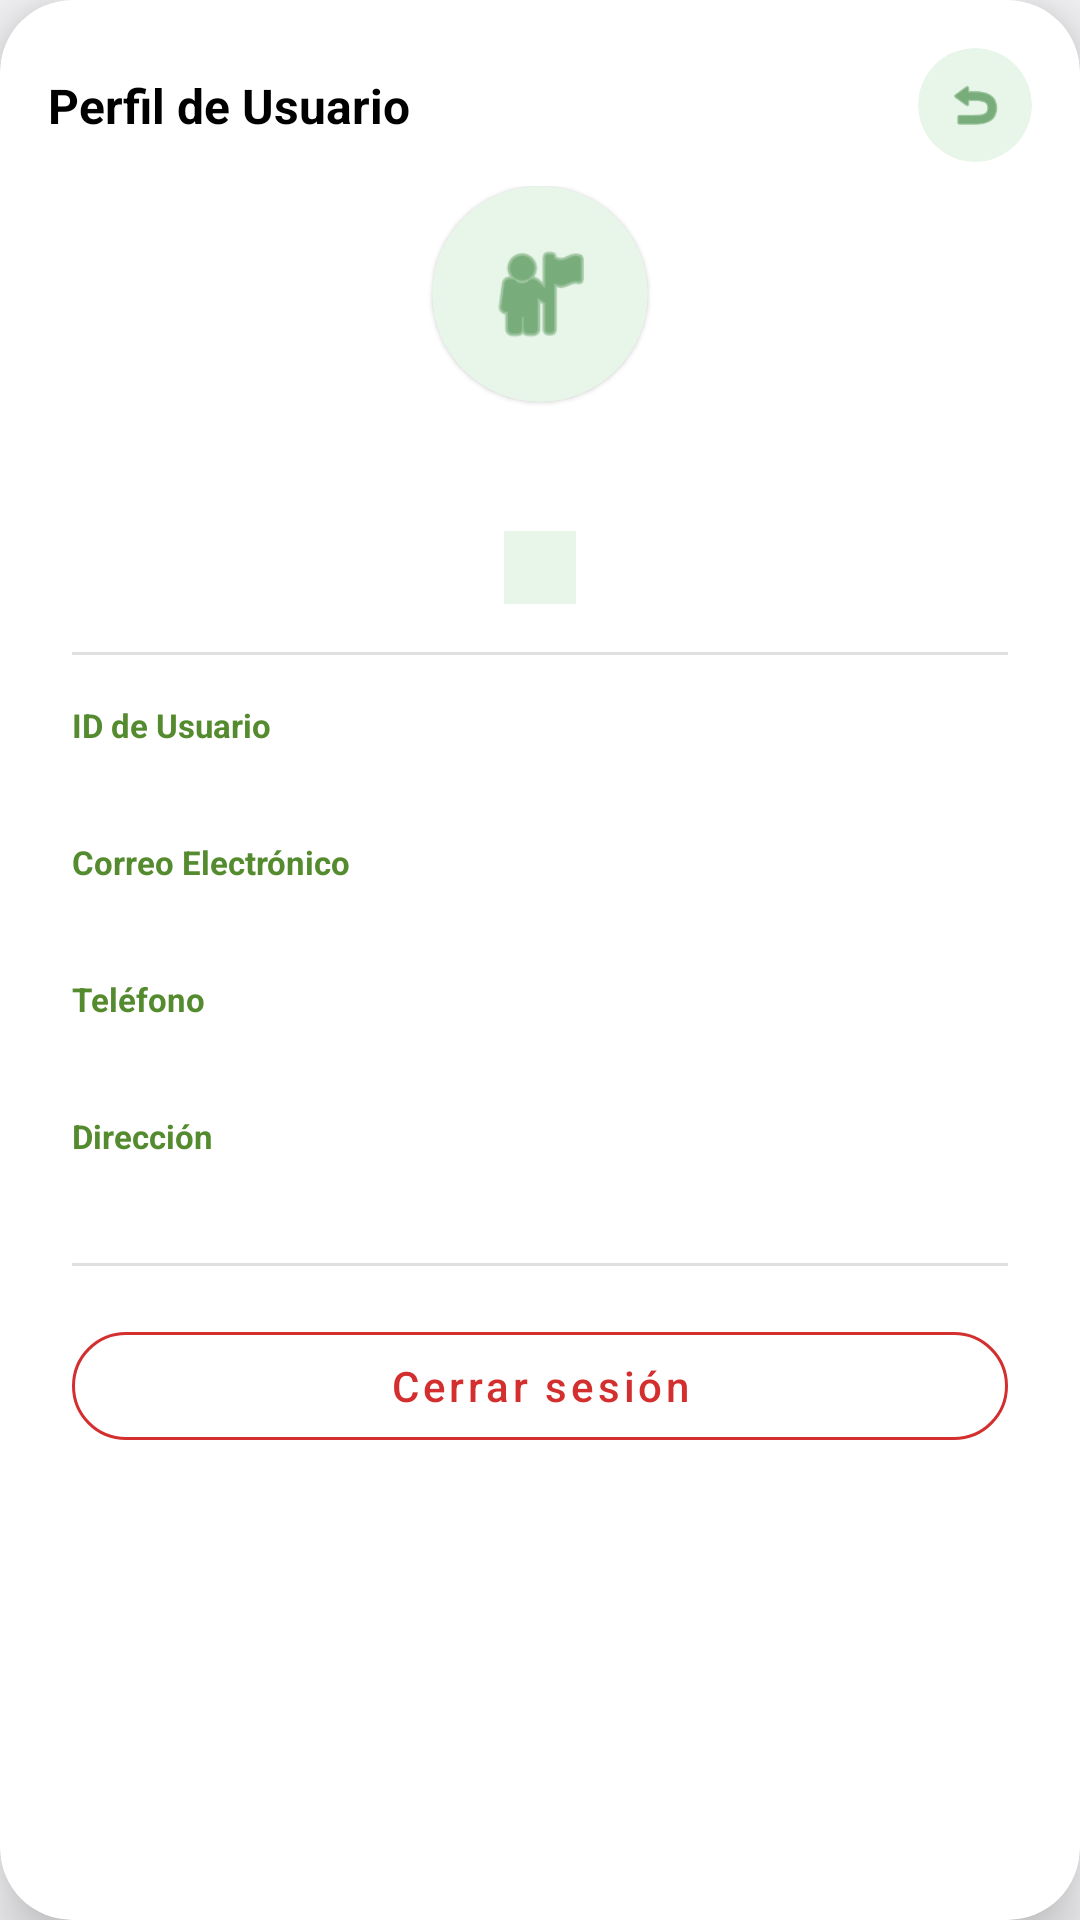

Icon click points for this 1080w x 1920h phone screenshot, format (x,y):
Avatar: (541,294)
Volver al catálogo: (975,105)
